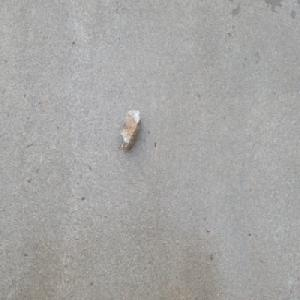Rock: (119, 110, 141, 153)
